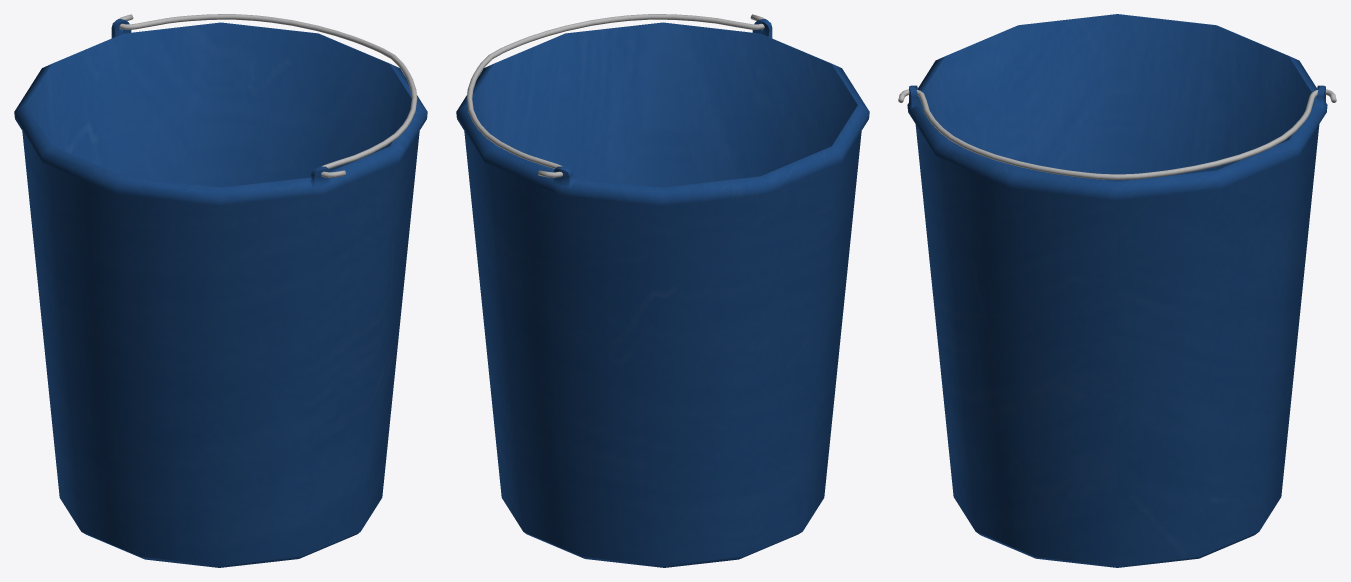
The model's file is Emmer.fbx.
3 renders of one model, left to right at view 1: azimuth 30°, elevation 25°; view 2: azimuth 150°, elevation 25°; view 3: azimuth 270°, elevation 25°, orthographic.
Parts seen in each view (by area): view 1: Cylinder; view 2: Cylinder; view 3: Cylinder.
Part boxes in pixels (x1,y1,x2,y2): Cylinder: [14, 14, 427, 567]; Cylinder: [456, 14, 869, 567]; Cylinder: [898, 14, 1336, 567].
Size of the model in its own units: 43.93 by 47.78 by 45.84.
